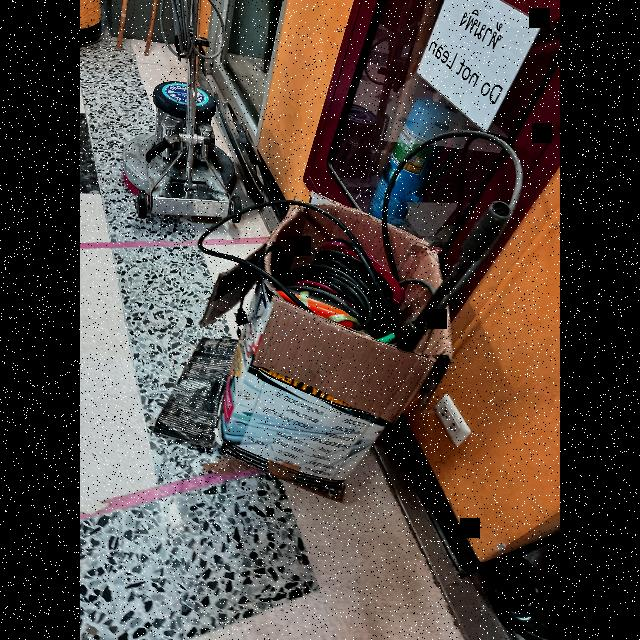cardboard_box: (210, 182, 460, 492)
